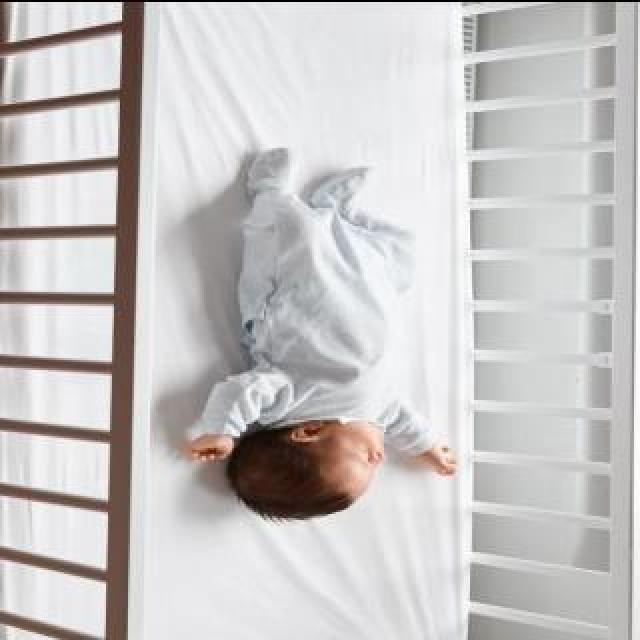baby: (181, 141, 467, 521)
